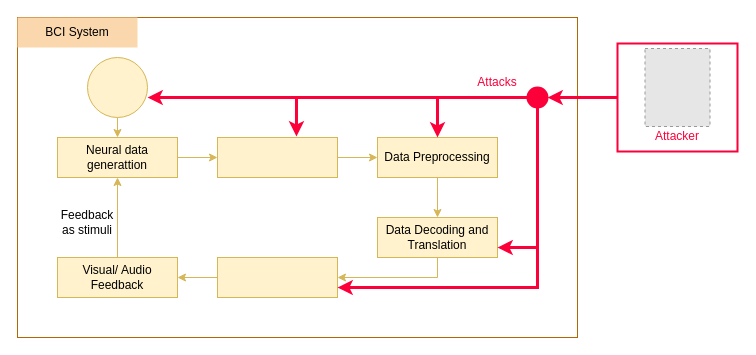
The diagram is 756 pixels wide and 355 high, and some of its shapes have lost their labels. Grey dashed boxes stand in for pictures. Here are the shapes that lost their labels. From the top down, the centre of each, then its label:
At pixel 117 87: "External Stimuli".
At pixel 277 157: "EEG data acqusition".
At pixel 277 277: "Application Performing action".
